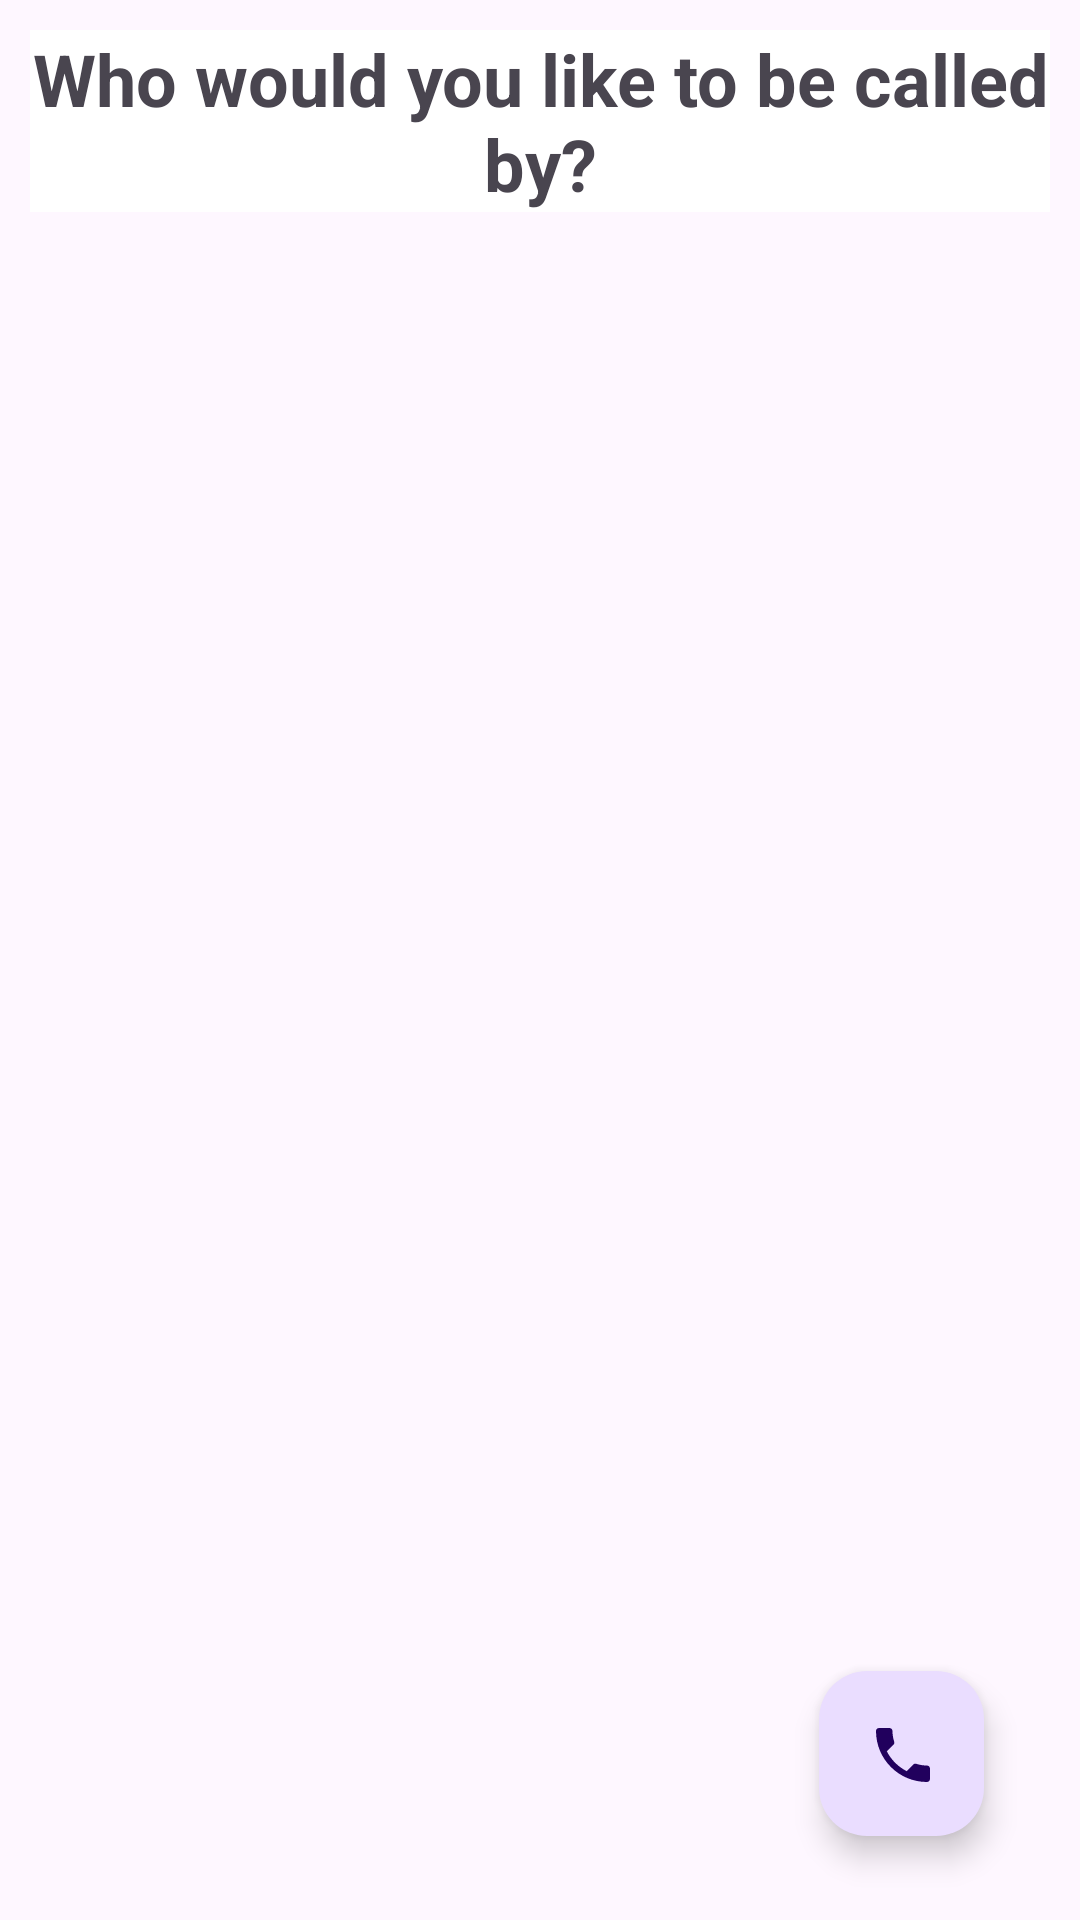

Where icons sit on this 1080 × 1920 app screen, as (x1, y1, x2, y2):
call: (819, 1671, 984, 1836)
